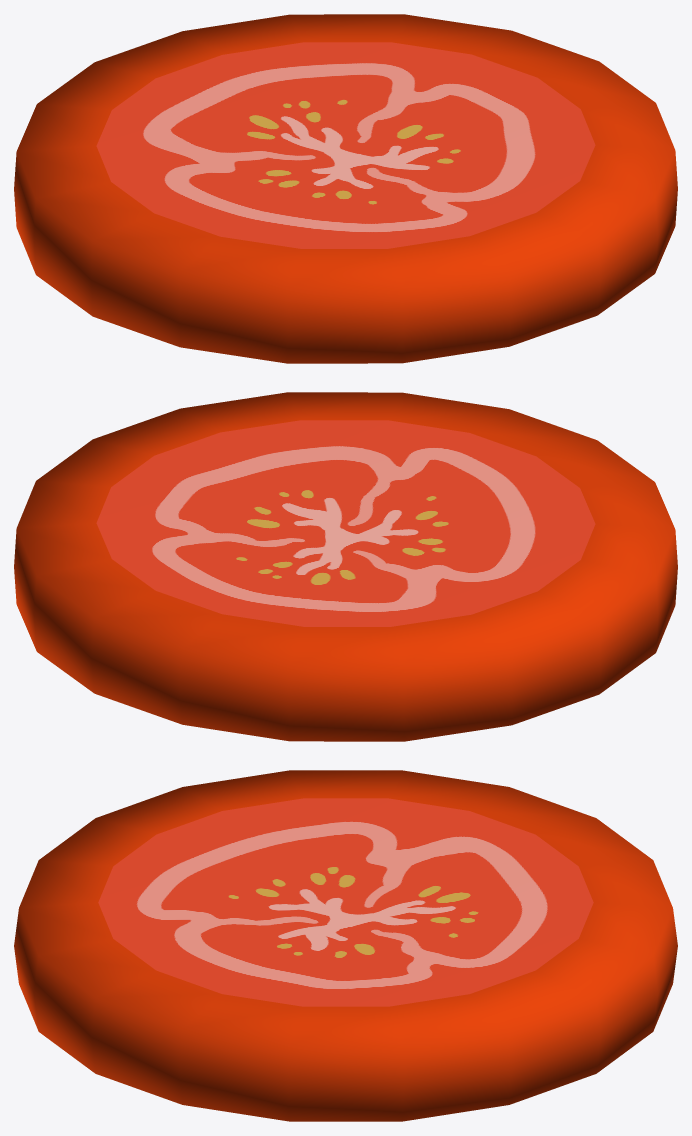
The model's file is TomatoSlice_mid.fbx.
The picture shows the model from 3 angles, top to bottom: view 1: azimuth 30°, elevation 25°; view 2: azimuth 150°, elevation 25°; view 3: azimuth 270°, elevation 25°; orthographic projection.
Parts seen in each view (by area): view 1: mid slice; view 2: mid slice; view 3: mid slice.
Part boxes in pixels (bbox=[...]): mid slice: bbox=[14, 14, 677, 363]; mid slice: bbox=[14, 392, 677, 741]; mid slice: bbox=[14, 770, 677, 1121].
Size of the model in its own units: 196 by 28.73 by 199.
Materials: 2 (1 with a texture image).
